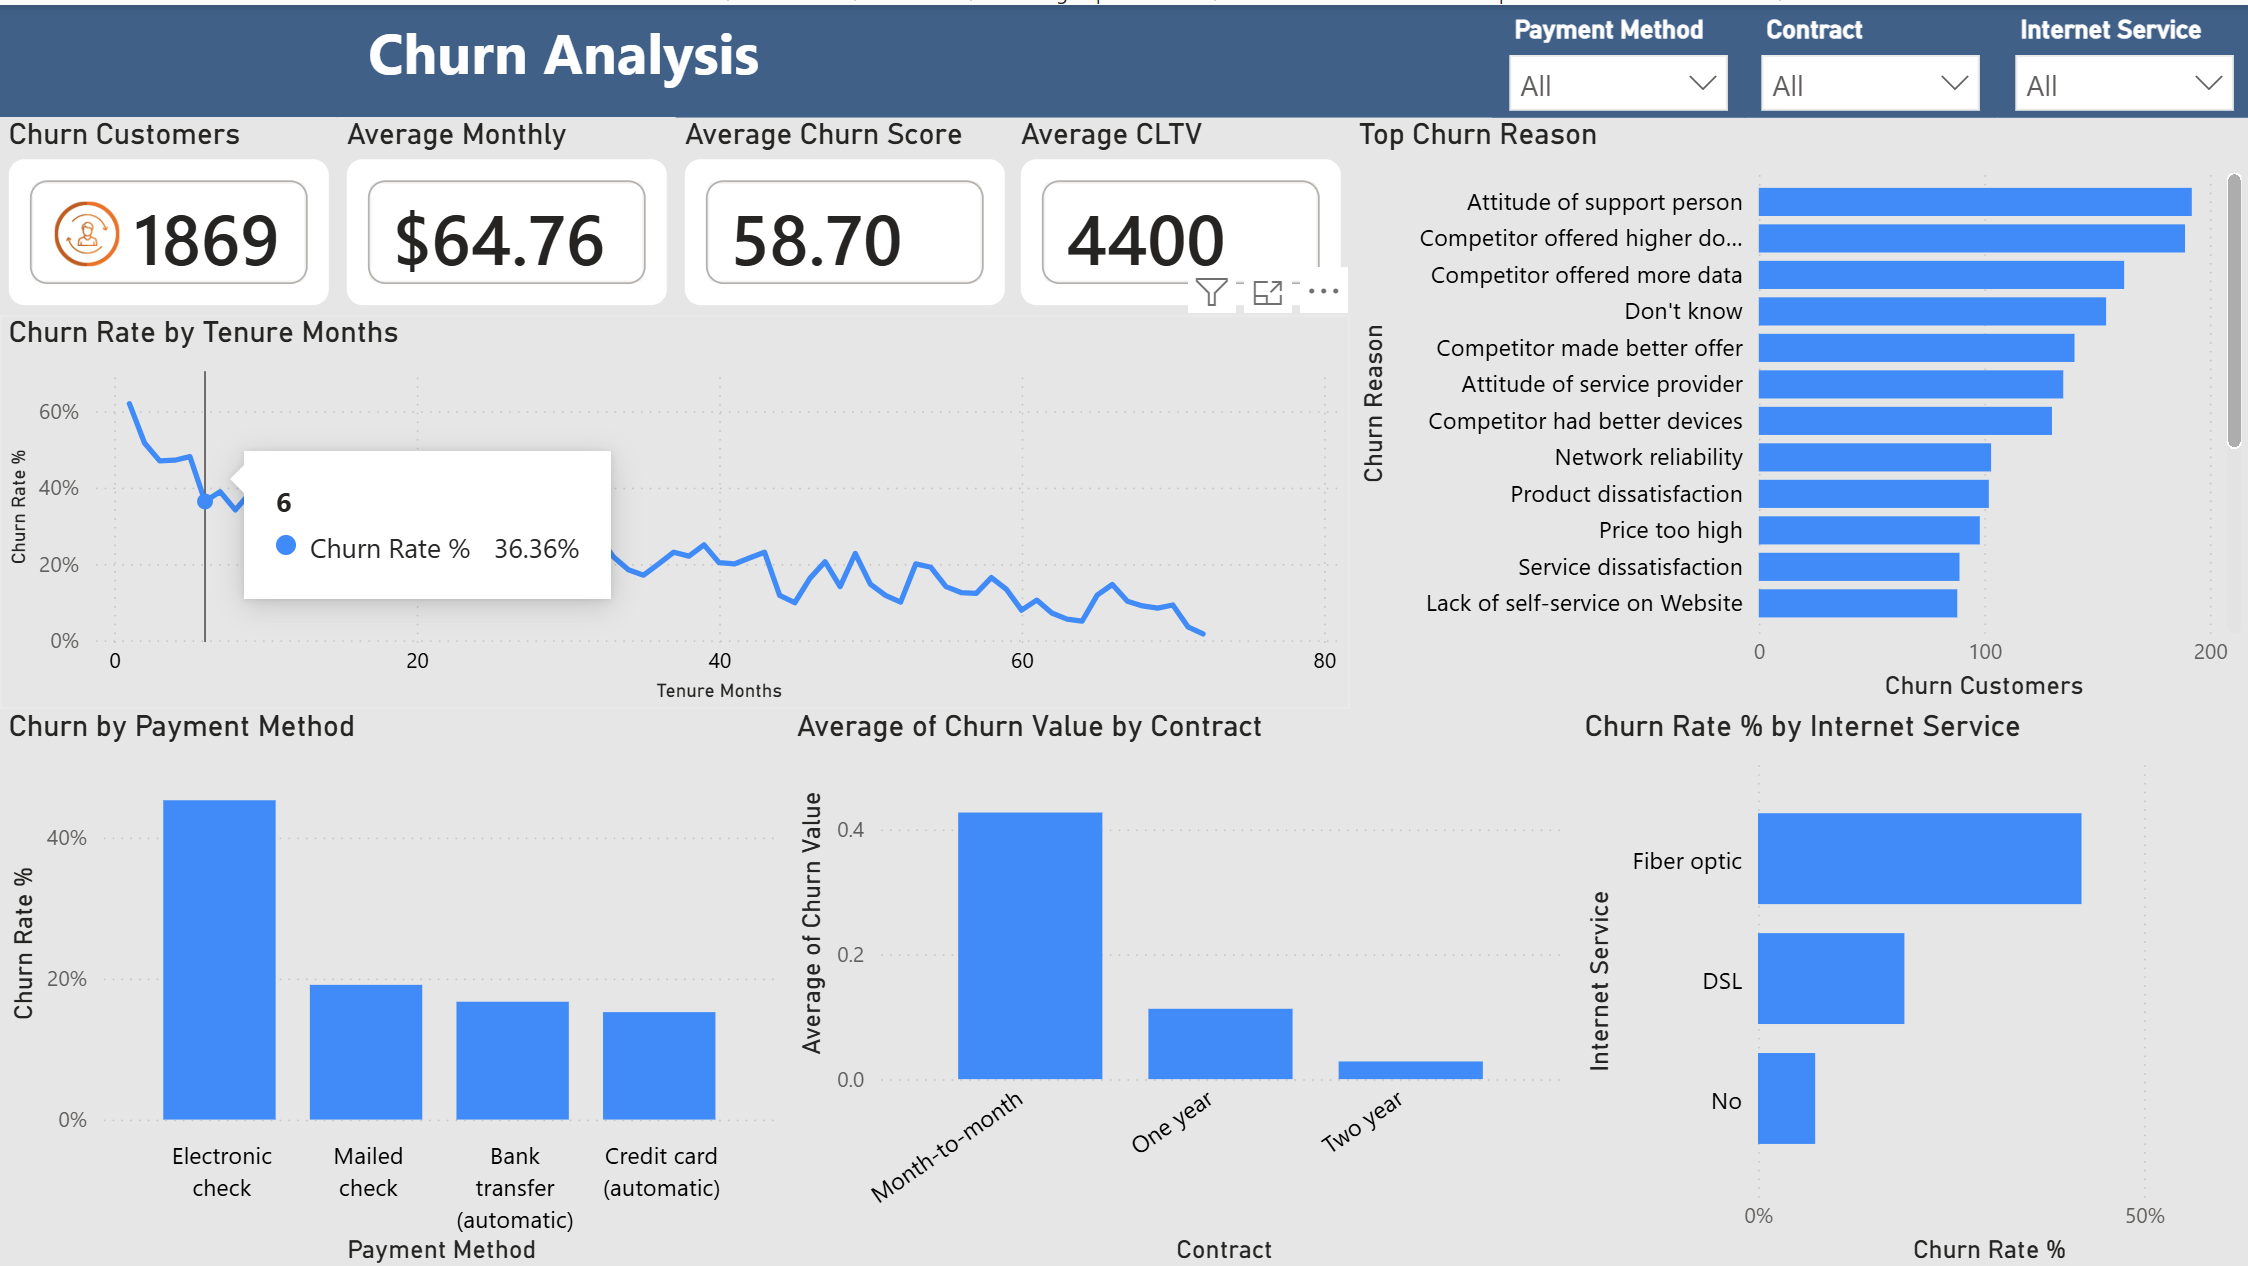

This screenshot's page, from the dashboard's own definition file:
{"tool":"powerbi","page":{"name":"Churn Analysis","canvas":[1280,720],"ordinal":2},"visuals":[{"type":"cardVisual","title":"Average CLTV","fields":{"Data":["Measures_Table.Average CLTV"]},"box":[576,64,192,112],"z":0},{"type":"cardVisual","title":"Average Churn Score","fields":{"Data":["Avg(telco_customer_clean.Churn Score)"]},"box":[384,64,192,112],"z":1000},{"type":"clusteredColumnChart","fields":{"Category":["telco_customer_clean.Contract"],"Y":["Avg(telco_customer_clean.Churn Value)"]},"box":[448,400,448,320],"z":2000},{"type":"clusteredBarChart","fields":{"Category":["telco_customer_clean.Internet Service"],"Y":["Measures_Table.Churn Rate %"]},"box":[896,400,384,320],"z":3000},{"type":"clusteredColumnChart","title":"Churn by Payment Method","fields":{"Category":["telco_customer_clean.Payment Method"],"Y":["Measures_Table.Churn Rate %"]},"box":[0,400,448,320],"z":4000},{"type":"barChart","title":"Top Churn Reason","fields":{"Category":["telco_customer_clean.Churn Reason"],"Y":["Measures_Table.Churn Customers"]},"box":[768,64,512,336],"z":5000},{"type":"lineChart","title":"Churn Rate by Tenure Months","fields":{"Y":["Measures_Table.Churn Rate %"],"Category":["telco_customer_clean.Tenure Months"]},"box":[0,176,768,224],"z":6000},{"type":"textbox","box":[0,0,1280,64],"z":7000},{"type":"cardVisual","title":"Churn Customers","fields":{"Data":["Measures_Table.Churn Customers"]},"box":[0,64,192,112],"z":8000},{"type":"cardVisual","title":"Average Monthly","fields":{"Data":["Measures_Table.Average Monthly Charges"]},"box":[192,64,192,112],"z":9000},{"type":"slicer","fields":{"Values":["telco_customer_clean.Payment Method"]},"box":[848,0,144,64],"z":10000},{"type":"slicer","fields":{"Values":["telco_customer_clean.Contract"]},"box":[992,0,144,64],"z":11000},{"type":"slicer","fields":{"Values":["telco_customer_clean.Internet Service"]},"box":[1136,0,144,64],"z":12000}]}

Visuals, with their boxes in screenshot pixels (x1, y1, x2, y2), scaled from the page's 1280x720 canvas onto the 2248x1266 screenshot:
"Average CLTV" cardVisual: bbox=(1012, 113, 1349, 309)
"Average Churn Score" cardVisual: bbox=(674, 113, 1012, 309)
clusteredColumnChart - telco_customer_clean.Contract x Avg(telco_customer_clean.Churn Value): bbox=(787, 703, 1574, 1265)
clusteredBarChart - telco_customer_clean.Internet Service x Measures_Table.Churn Rate %: bbox=(1574, 703, 2247, 1265)
"Churn by Payment Method" clusteredColumnChart: bbox=(0, 703, 787, 1265)
"Top Churn Reason" barChart: bbox=(1349, 113, 2247, 703)
"Churn Rate by Tenure Months" lineChart: bbox=(0, 309, 1349, 703)
textbox: bbox=(0, 0, 2247, 113)
"Churn Customers" cardVisual: bbox=(0, 113, 337, 309)
"Average Monthly" cardVisual: bbox=(337, 113, 674, 309)
slicer - telco_customer_clean.Payment Method: bbox=(1489, 0, 1742, 113)
slicer - telco_customer_clean.Contract: bbox=(1742, 0, 1995, 113)
slicer - telco_customer_clean.Internet Service: bbox=(1995, 0, 2247, 113)
